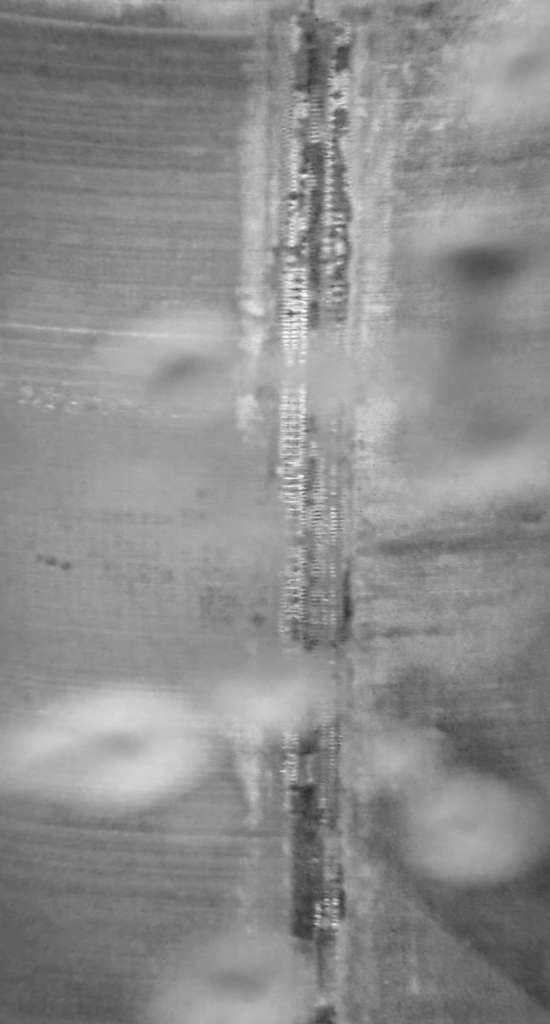splice: (270, 1, 375, 1024)
